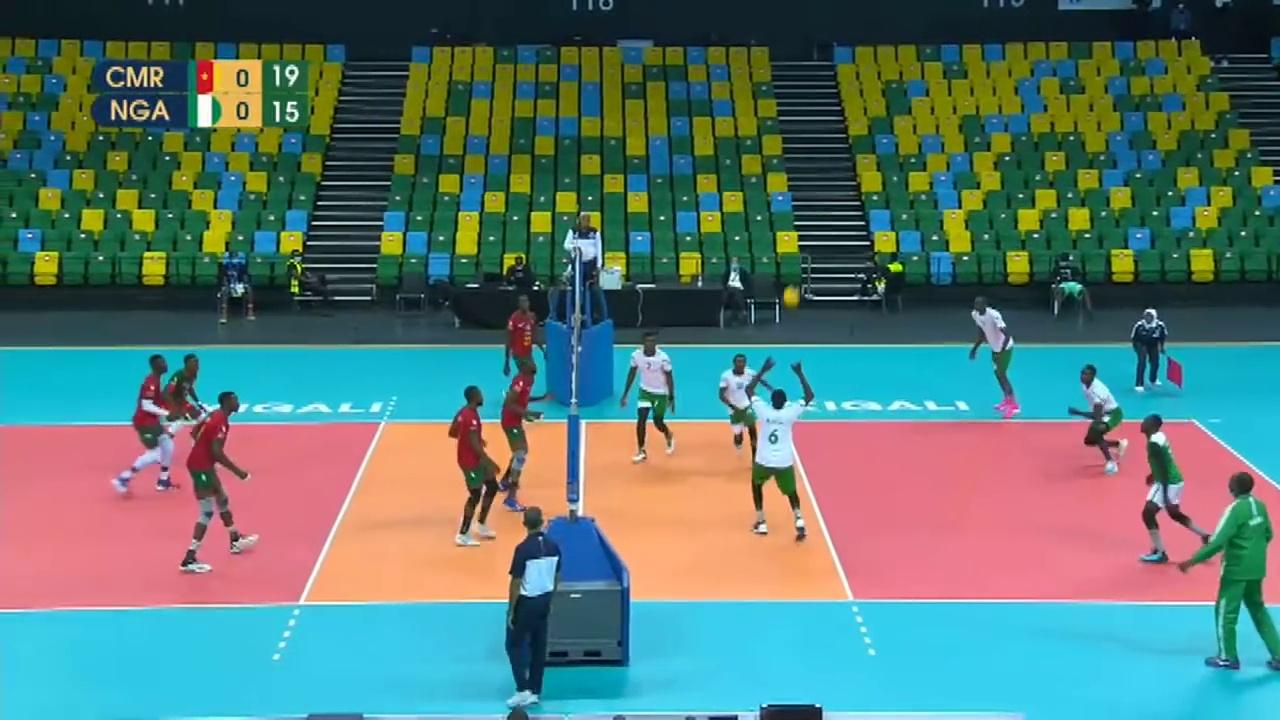player: (179, 381, 262, 577), (749, 350, 815, 540), (114, 358, 191, 495), (445, 386, 499, 546), (1137, 418, 1199, 557), (489, 358, 541, 511), (622, 337, 675, 462), (710, 349, 769, 451), (501, 287, 546, 418), (969, 299, 1019, 414), (1076, 366, 1125, 474), (156, 349, 207, 451)
refree: (504, 511, 564, 706), (559, 209, 605, 314), (1133, 309, 1177, 391)
